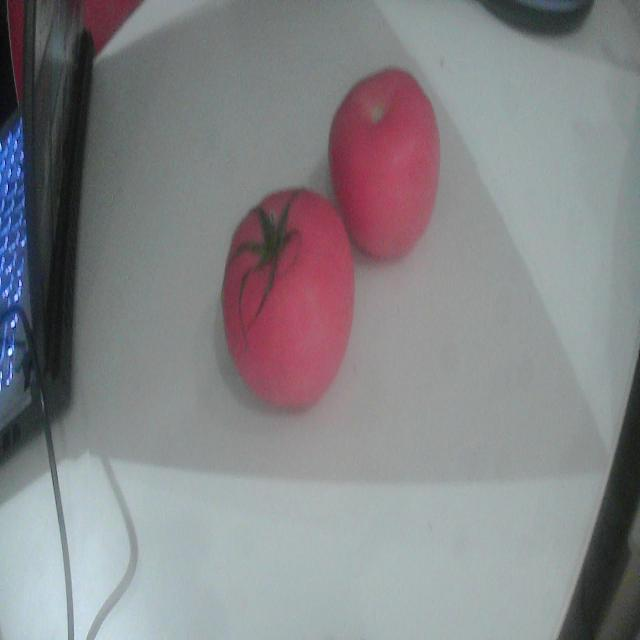Tomato: (222, 190, 354, 408), (330, 69, 440, 260)
